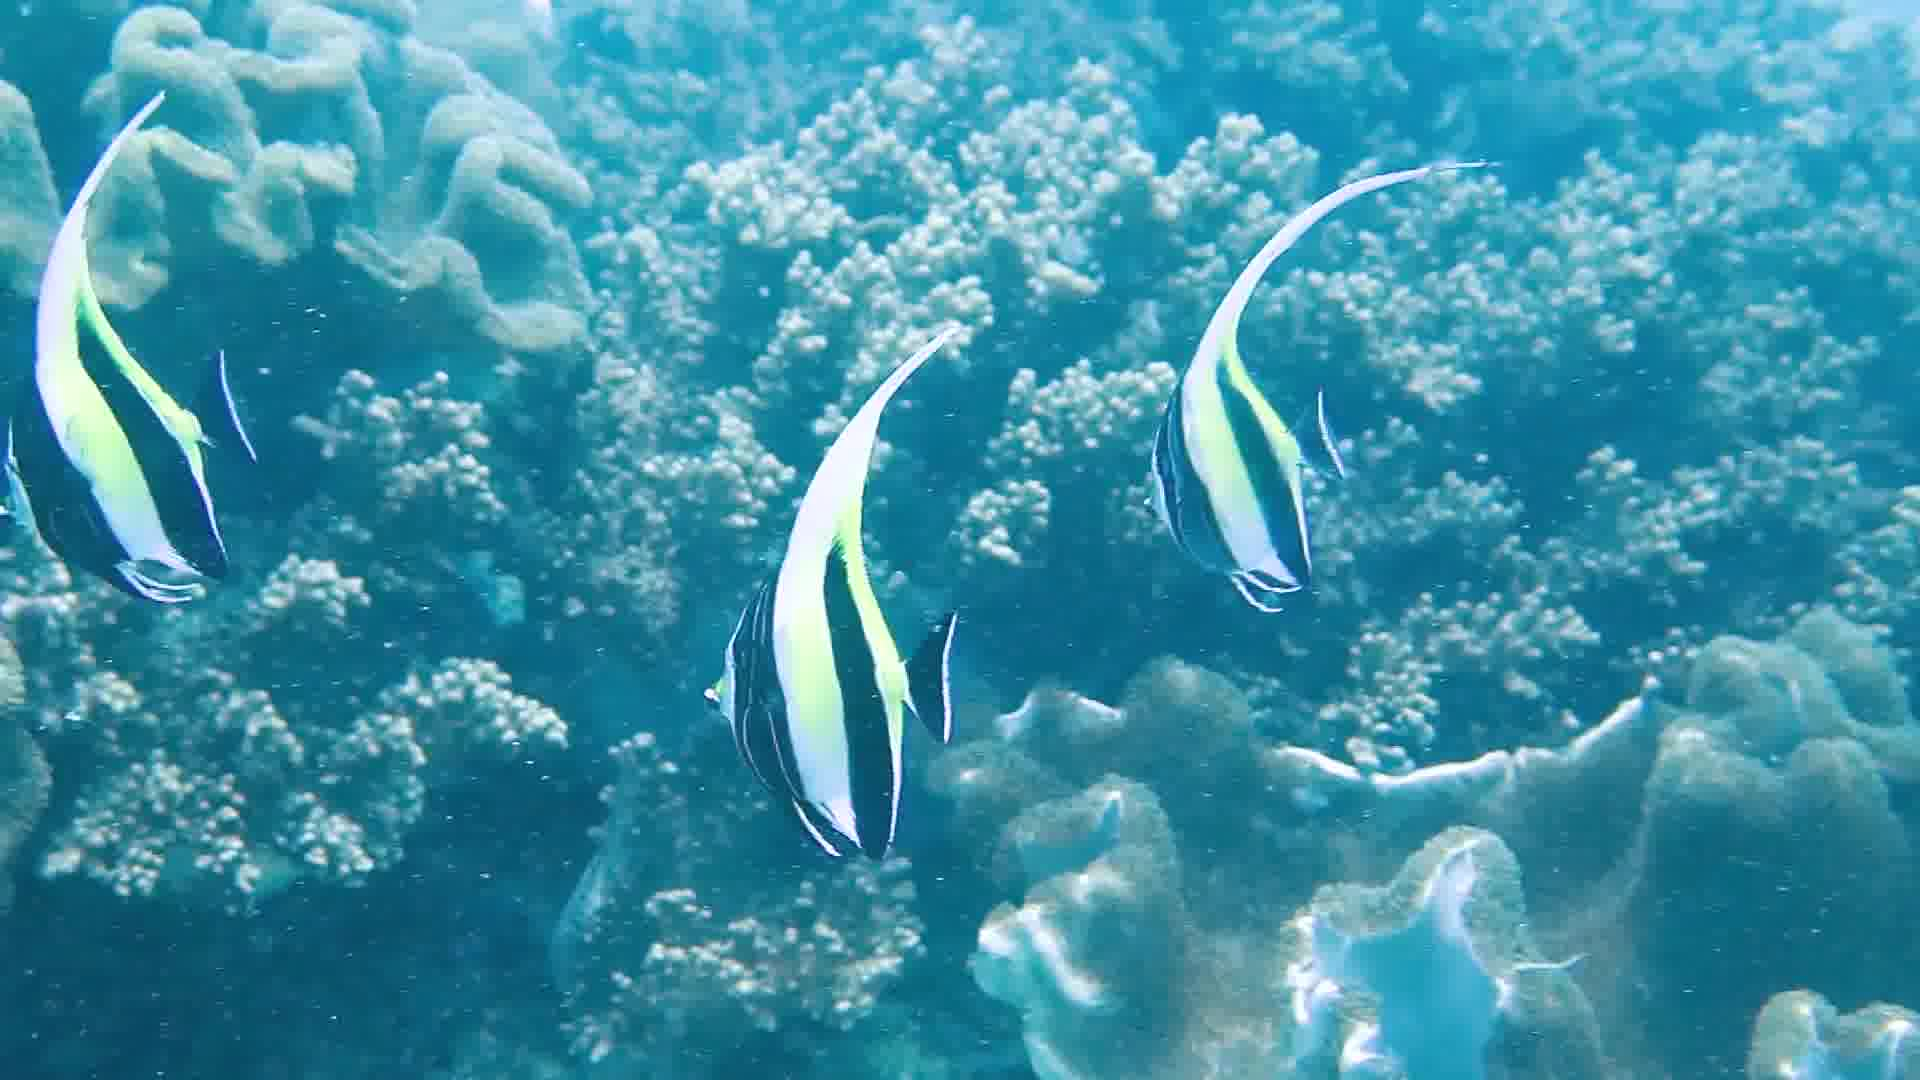Zanclus cornutus: (1080, 239, 1400, 676), (1083, 241, 1403, 678), (1, 218, 320, 655)
